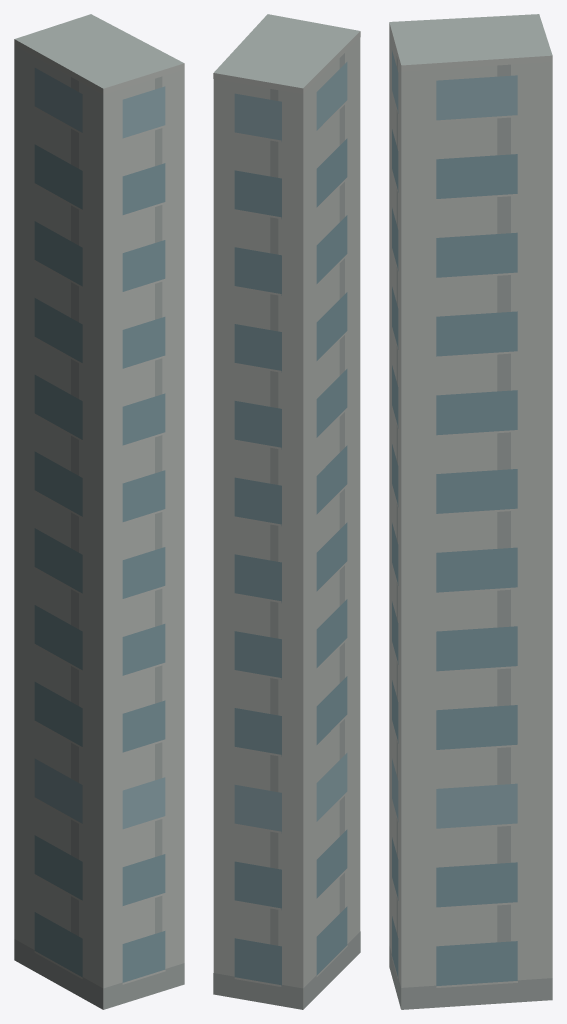
Rendered from survey-upis-32634816.glb.
3 views of the same model, side by side, from view 1: azimuth 30°, elevation 25°; view 2: azimuth 150°, elevation 25°; view 3: azimuth 270°, elevation 25° (orthographic). The views are drawn at different scales.
Parts seen in each view (by area): view 1: survey-upis-32634816.tmp; view 2: survey-upis-32634816.tmp; view 3: survey-upis-32634816.tmp.
Part boxes in pixels (x1,y1,x2,y2): survey-upis-32634816.tmp: (14,14,184,1009); survey-upis-32634816.tmp: (213,14,360,1009); survey-upis-32634816.tmp: (389,14,552,1009).
Bounding box in the file's own units: 4.29 × 36.6 × 5.75.
